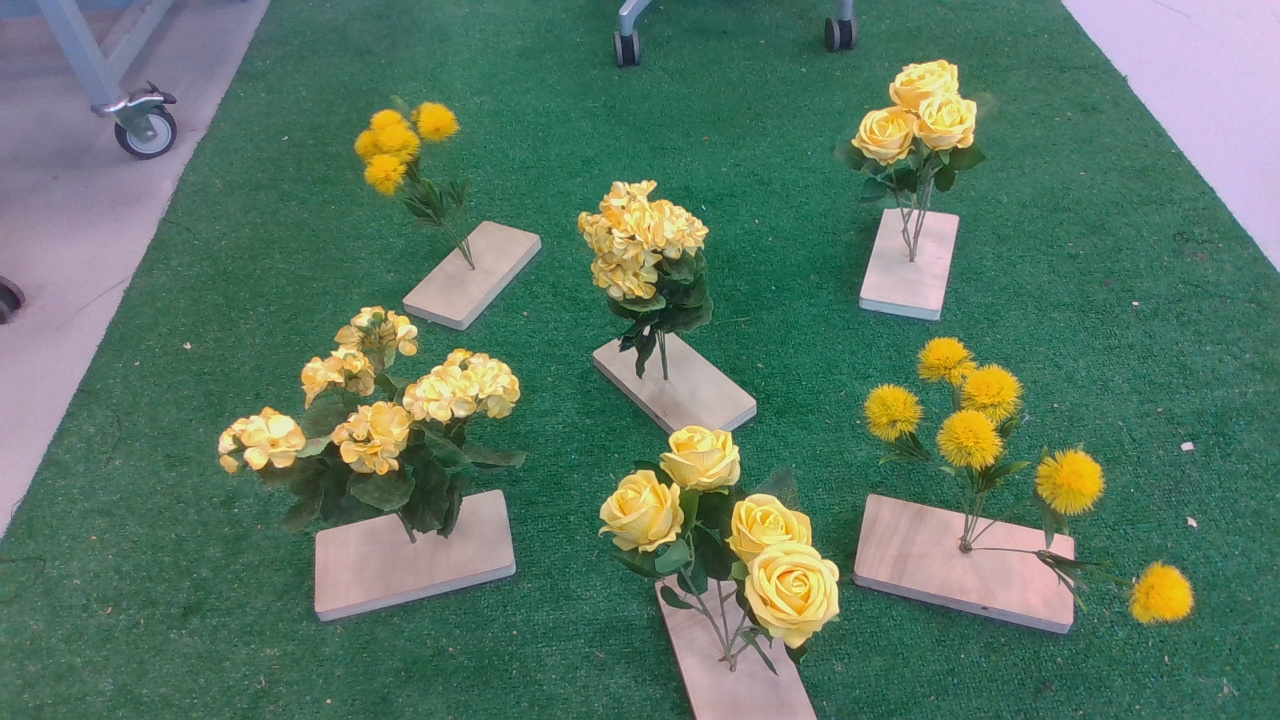dandelion: (859, 338, 1208, 633), (345, 97, 486, 237)
geranium: (213, 308, 538, 551), (574, 175, 728, 381)
rose: (595, 427, 857, 678), (832, 61, 993, 232)
